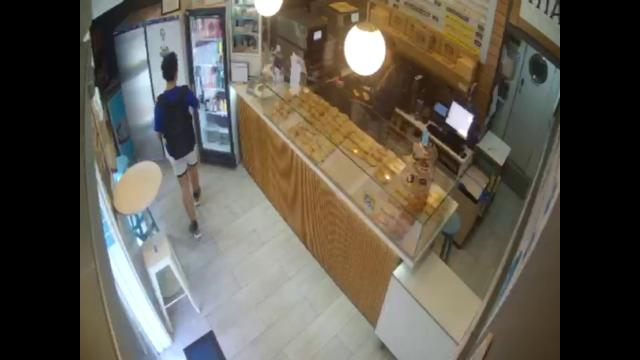cliente: (154, 52, 201, 236)
empleado: (370, 52, 422, 120)
